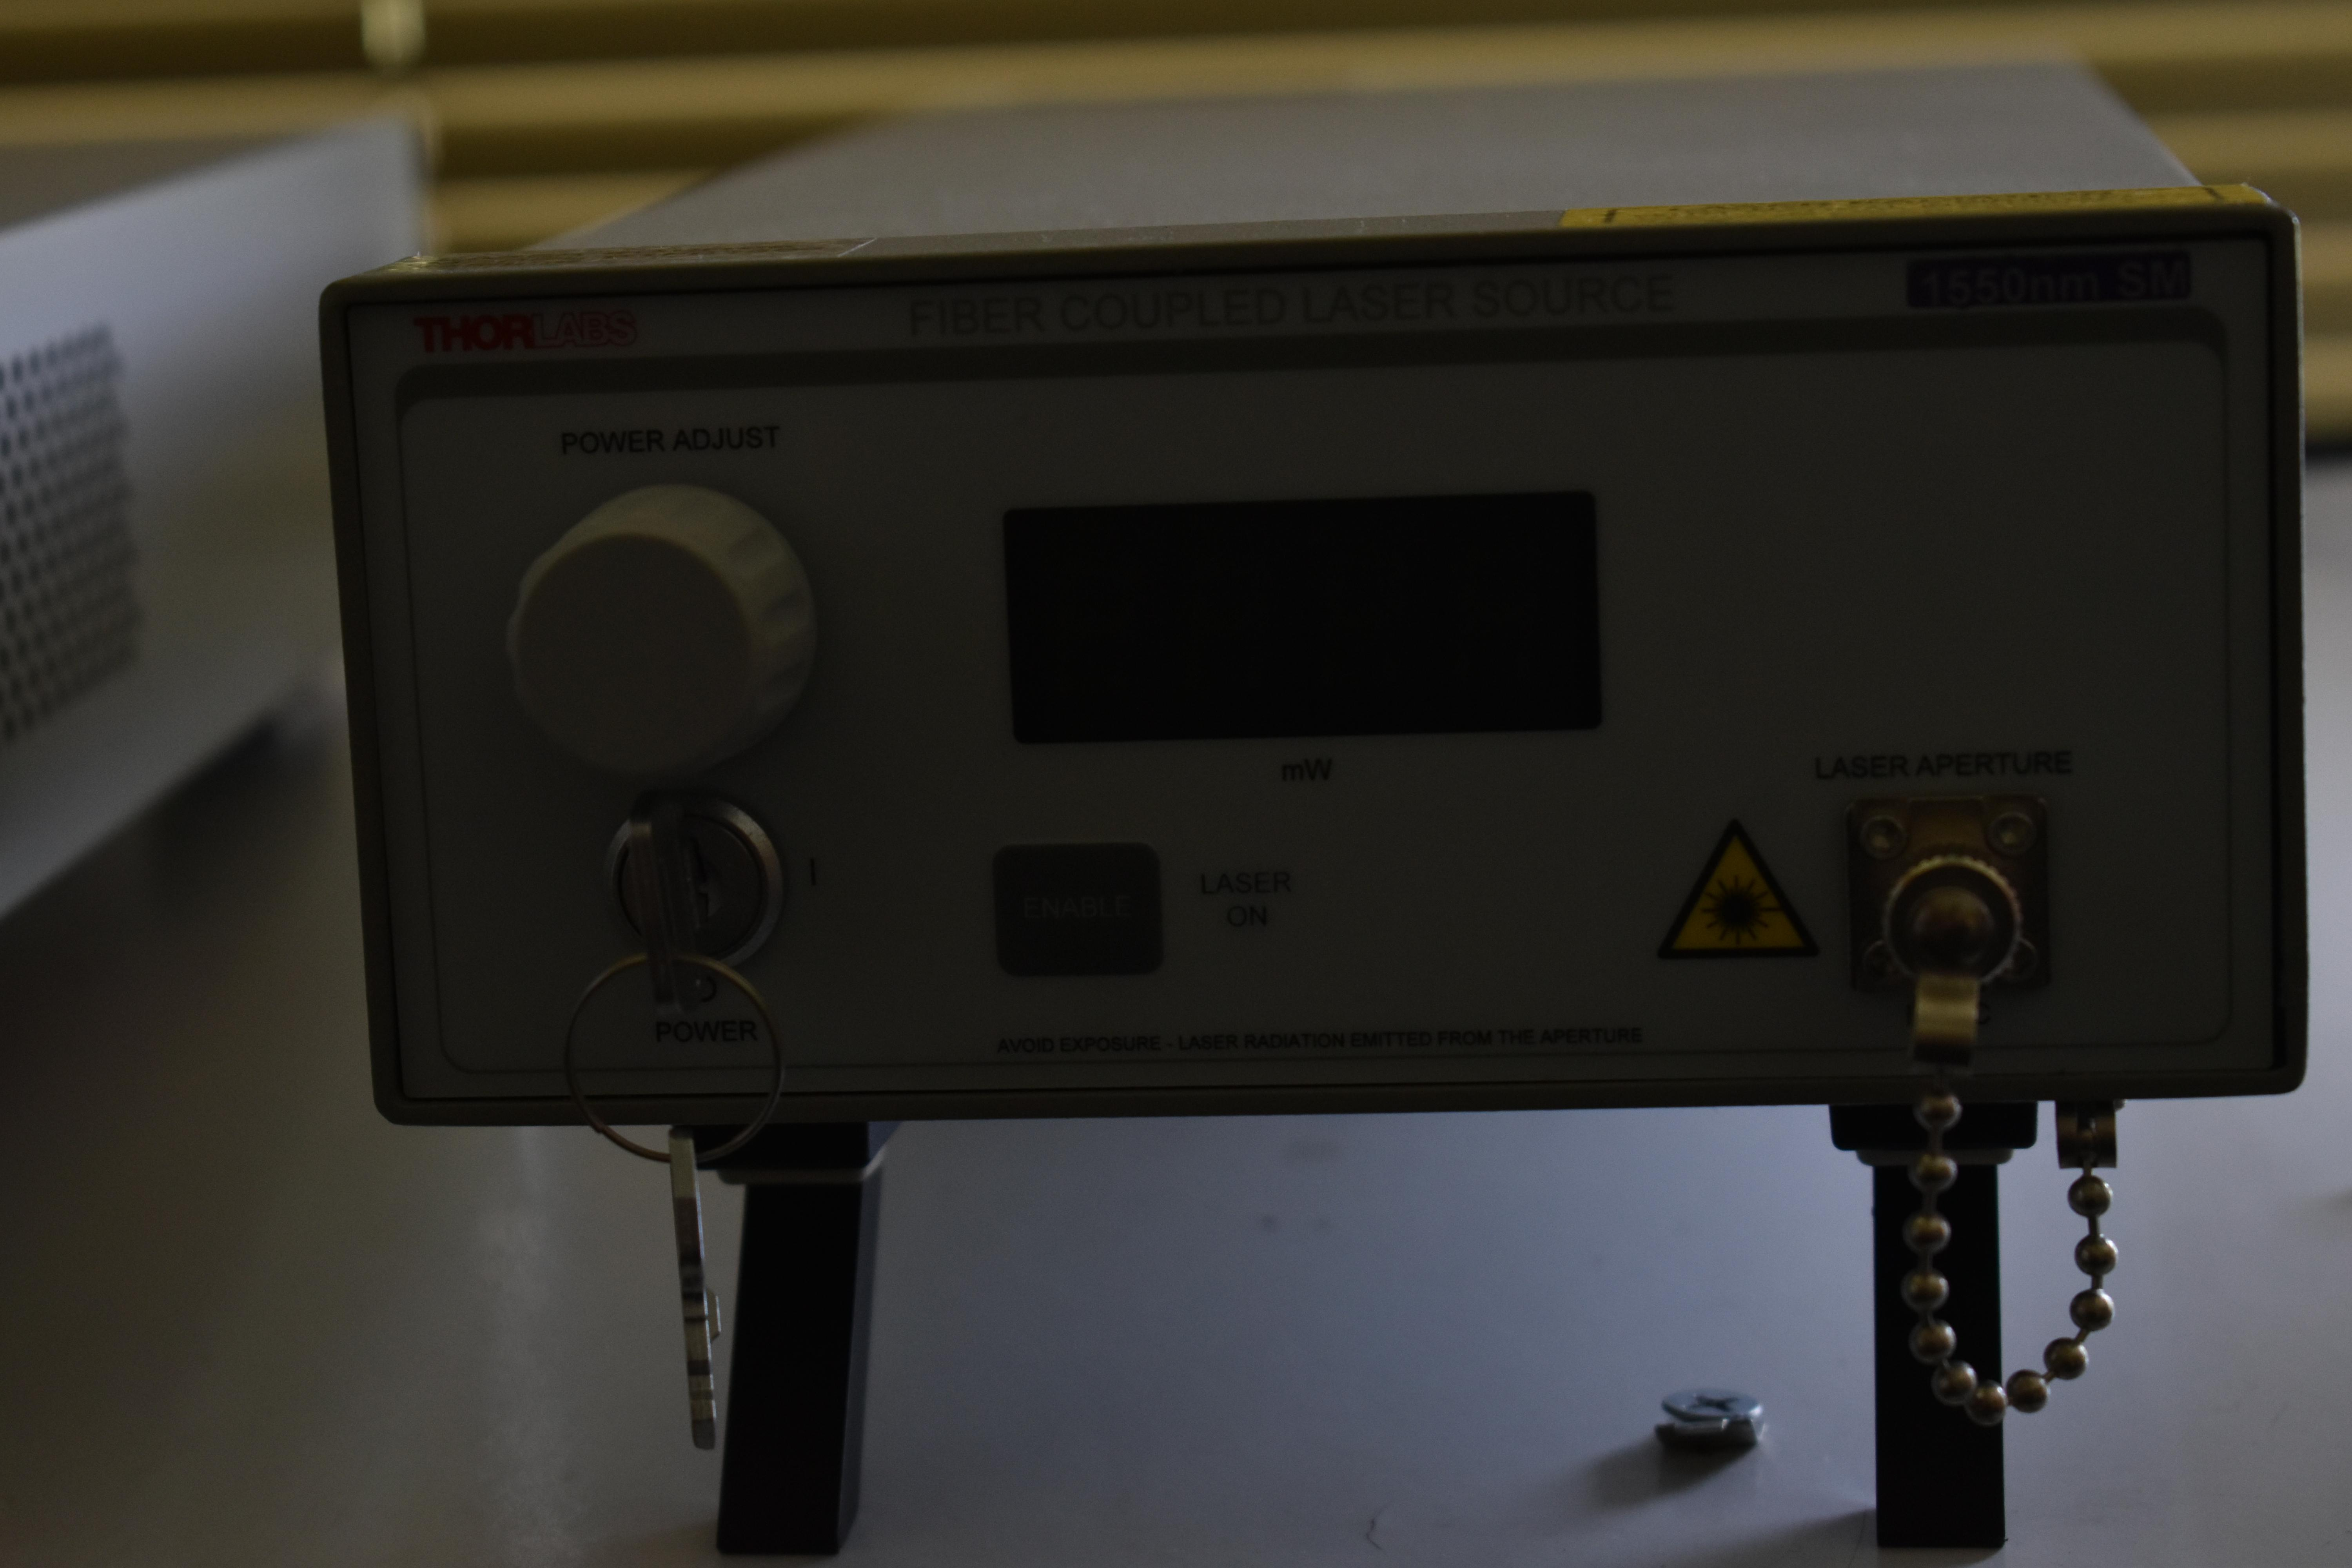laser: (296, 44, 2319, 1557)
